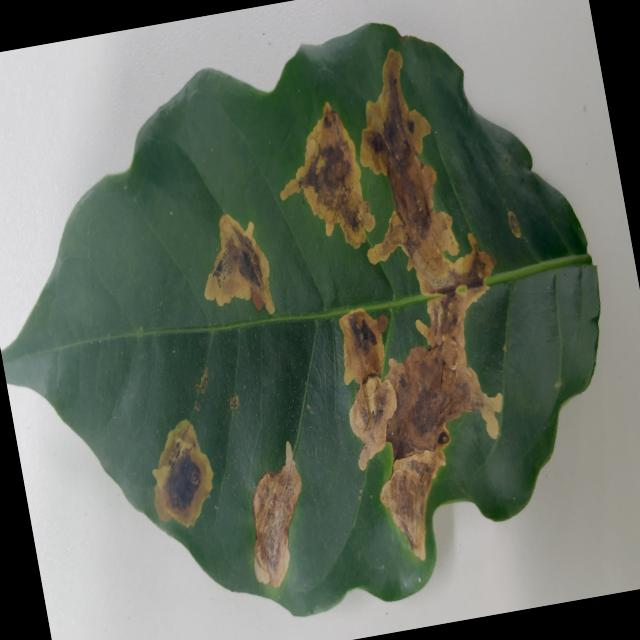KaratDaunKopi: (360, 49, 493, 293), (385, 288, 502, 459), (280, 102, 374, 248), (380, 448, 445, 559), (252, 441, 301, 587), (204, 214, 274, 313), (153, 420, 213, 526), (349, 374, 396, 469), (339, 308, 385, 384), (507, 210, 521, 238)
